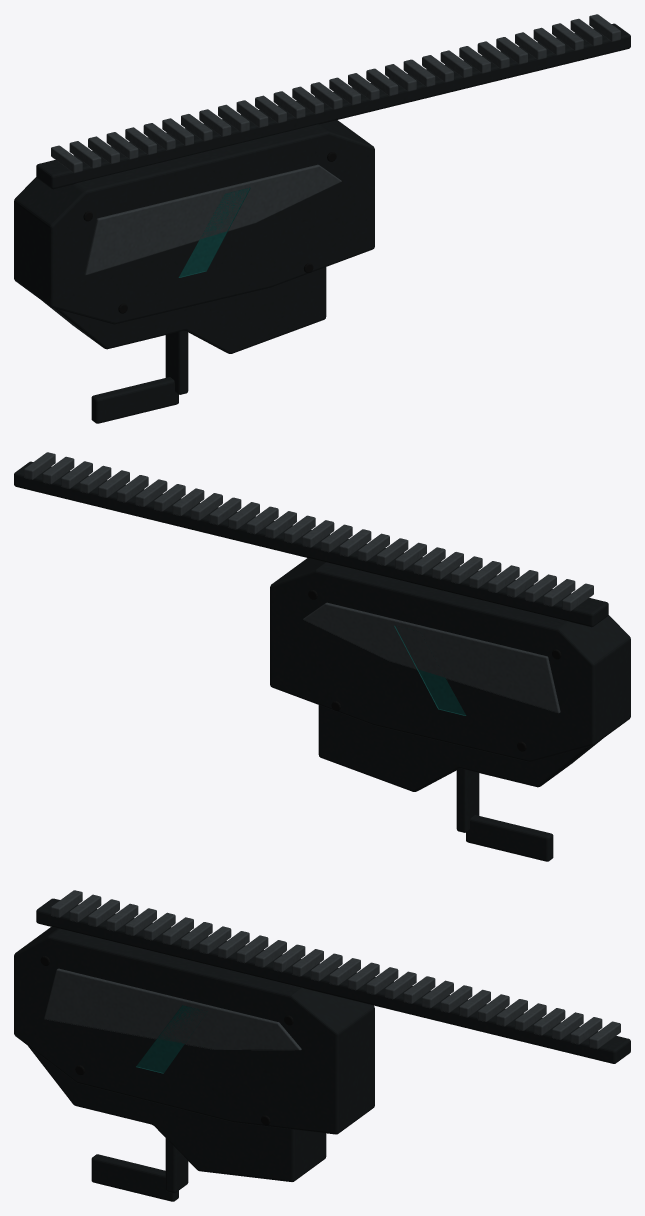
The model's file is kite01.core.glb.
The picture shows the model from 3 angles, top to bottom: view 1: azimuth 30°, elevation 25°; view 2: azimuth 150°, elevation 25°; view 3: azimuth 330°, elevation 25°; orthographic projection.
Parts seen in each view (by area): view 1: VIS_kite01_core; view 2: VIS_kite01_core; view 3: VIS_kite01_core.
Boxes of the visible parts, x1,y1,x2,y2 form: VIS_kite01_core: (14,14,630,423); VIS_kite01_core: (14,452,630,861); VIS_kite01_core: (14,890,630,1201).
Bounding box in the file's own units: 0.51 × 0.2265 × 0.066.
Materials: 4 (4 with a texture image).
